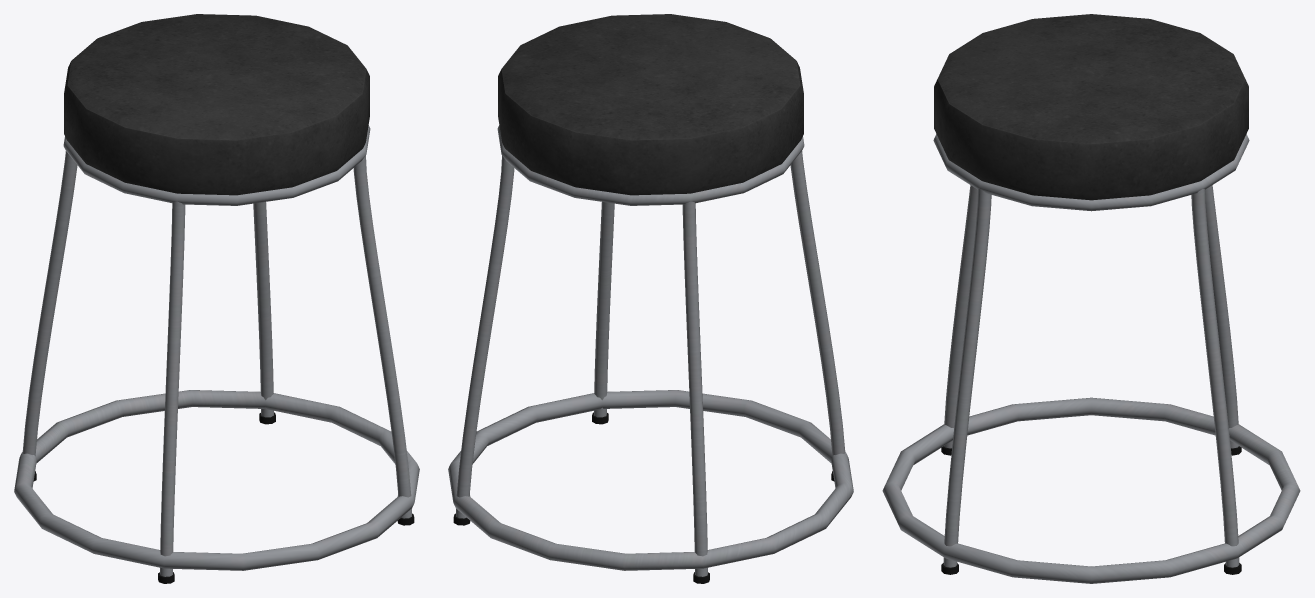
File: Lab Chair.fbx
3 renders of one model, left to right at view 1: azimuth 30°, elevation 25°; view 2: azimuth 150°, elevation 25°; view 3: azimuth 270°, elevation 25°, orthographic. The views are drawn at different scales.
Visible parts, largest first — view 1: Cylinder.003, Circle.001; view 2: Cylinder.003, Circle.001; view 3: Cylinder.003, Circle.001.
Part boxes in pixels (box(x1,y1,x2,y2)): Cylinder.003: box(64, 14, 369, 195); Circle.001: box(14, 125, 419, 583); Cylinder.003: box(498, 14, 803, 195); Circle.001: box(448, 125, 853, 583); Cylinder.003: box(934, 14, 1248, 200); Circle.001: box(882, 134, 1300, 583).
Size of the model in its own units: 49.42 by 56.81 by 49.42.
Materials: 1 (1 with a texture image).
